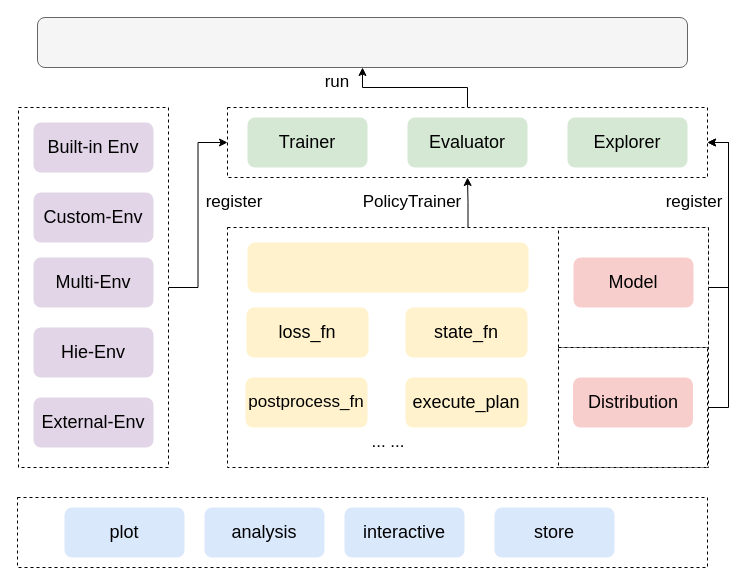
This 754x585 diagram has some shape labels left out. Here are the shapes that lost their labels. From the top down, the box of each, then its label:
(36, 16, 688, 68): rl - workflow
(247, 242, 528, 292): Policy
